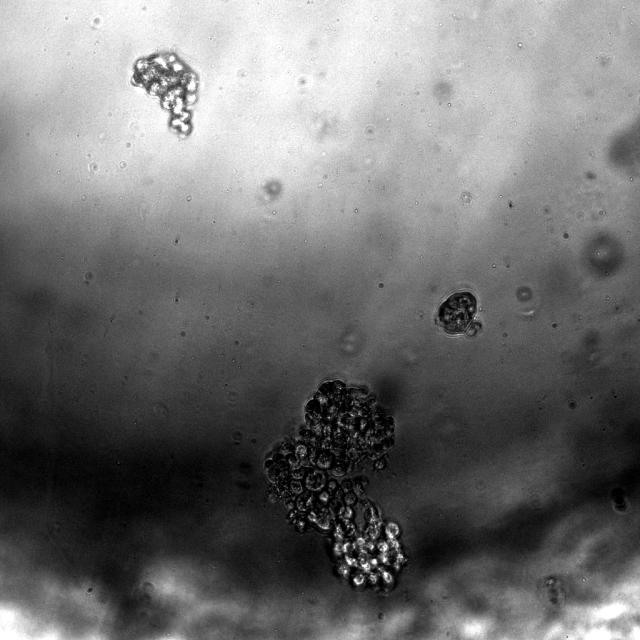organoid: (264, 379, 406, 591), (130, 51, 198, 137), (435, 291, 483, 338), (610, 487, 629, 512)
